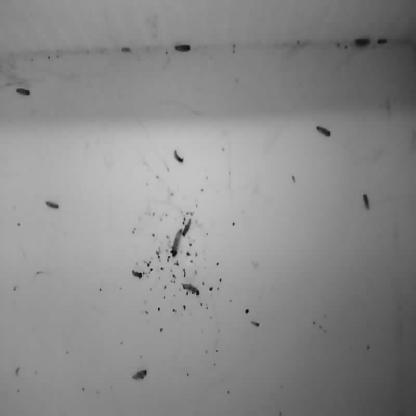PtecticusTenebrifer: (172, 228, 183, 257), (131, 368, 147, 382), (174, 43, 192, 55), (316, 124, 331, 138), (183, 284, 200, 296), (16, 86, 32, 98), (363, 193, 371, 213), (184, 218, 192, 238), (173, 150, 184, 162), (47, 200, 60, 208)
